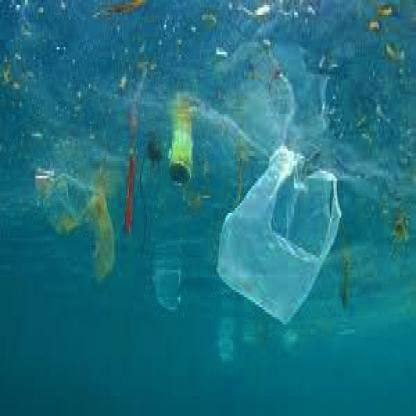can: (162, 112, 198, 193)
pbag: (215, 146, 347, 322), (32, 163, 123, 285)
